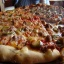pizza: (1, 3, 64, 62)
